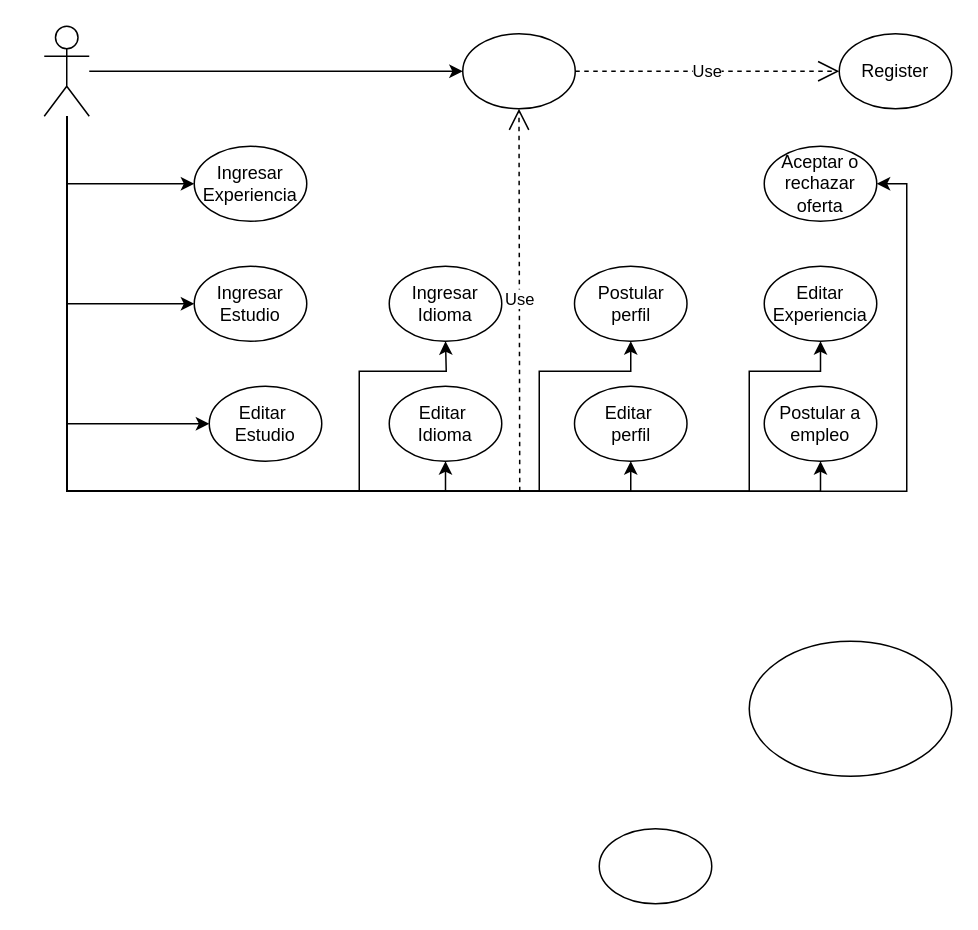
The diagram is 978 pixels wide and 930 high, and some of its shapes have lost their labels. Here are the shapes that lost their labels. From the top down, the box of each, then its label:
(43, 25, 89, 116): Empleado
(461, 32, 575, 109): Login
(748, 640, 952, 776): No recomendar(si te olvidas era que el perfil quede invisible xd)
(598, 827, 712, 904): Cerrar Sesion
